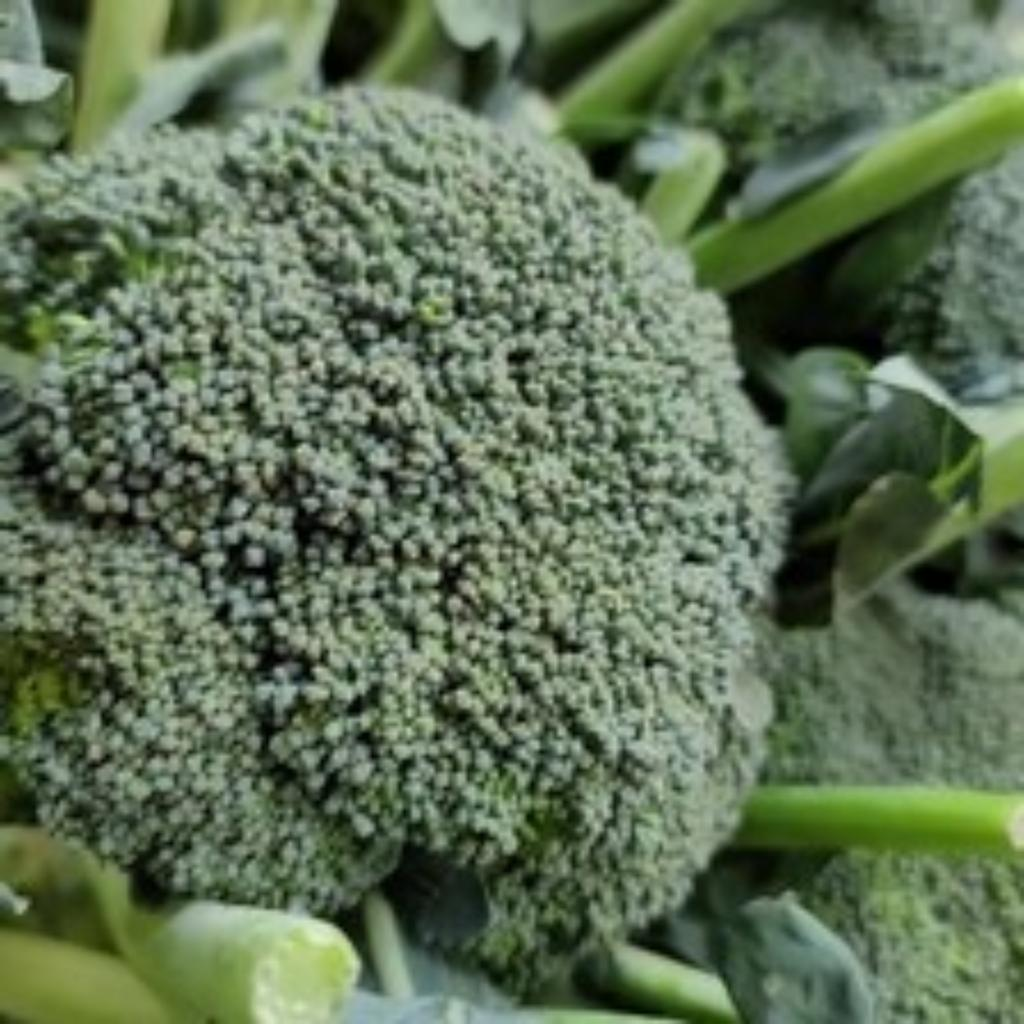Broccoli: (0, 90, 788, 993), (0, 90, 788, 991)
